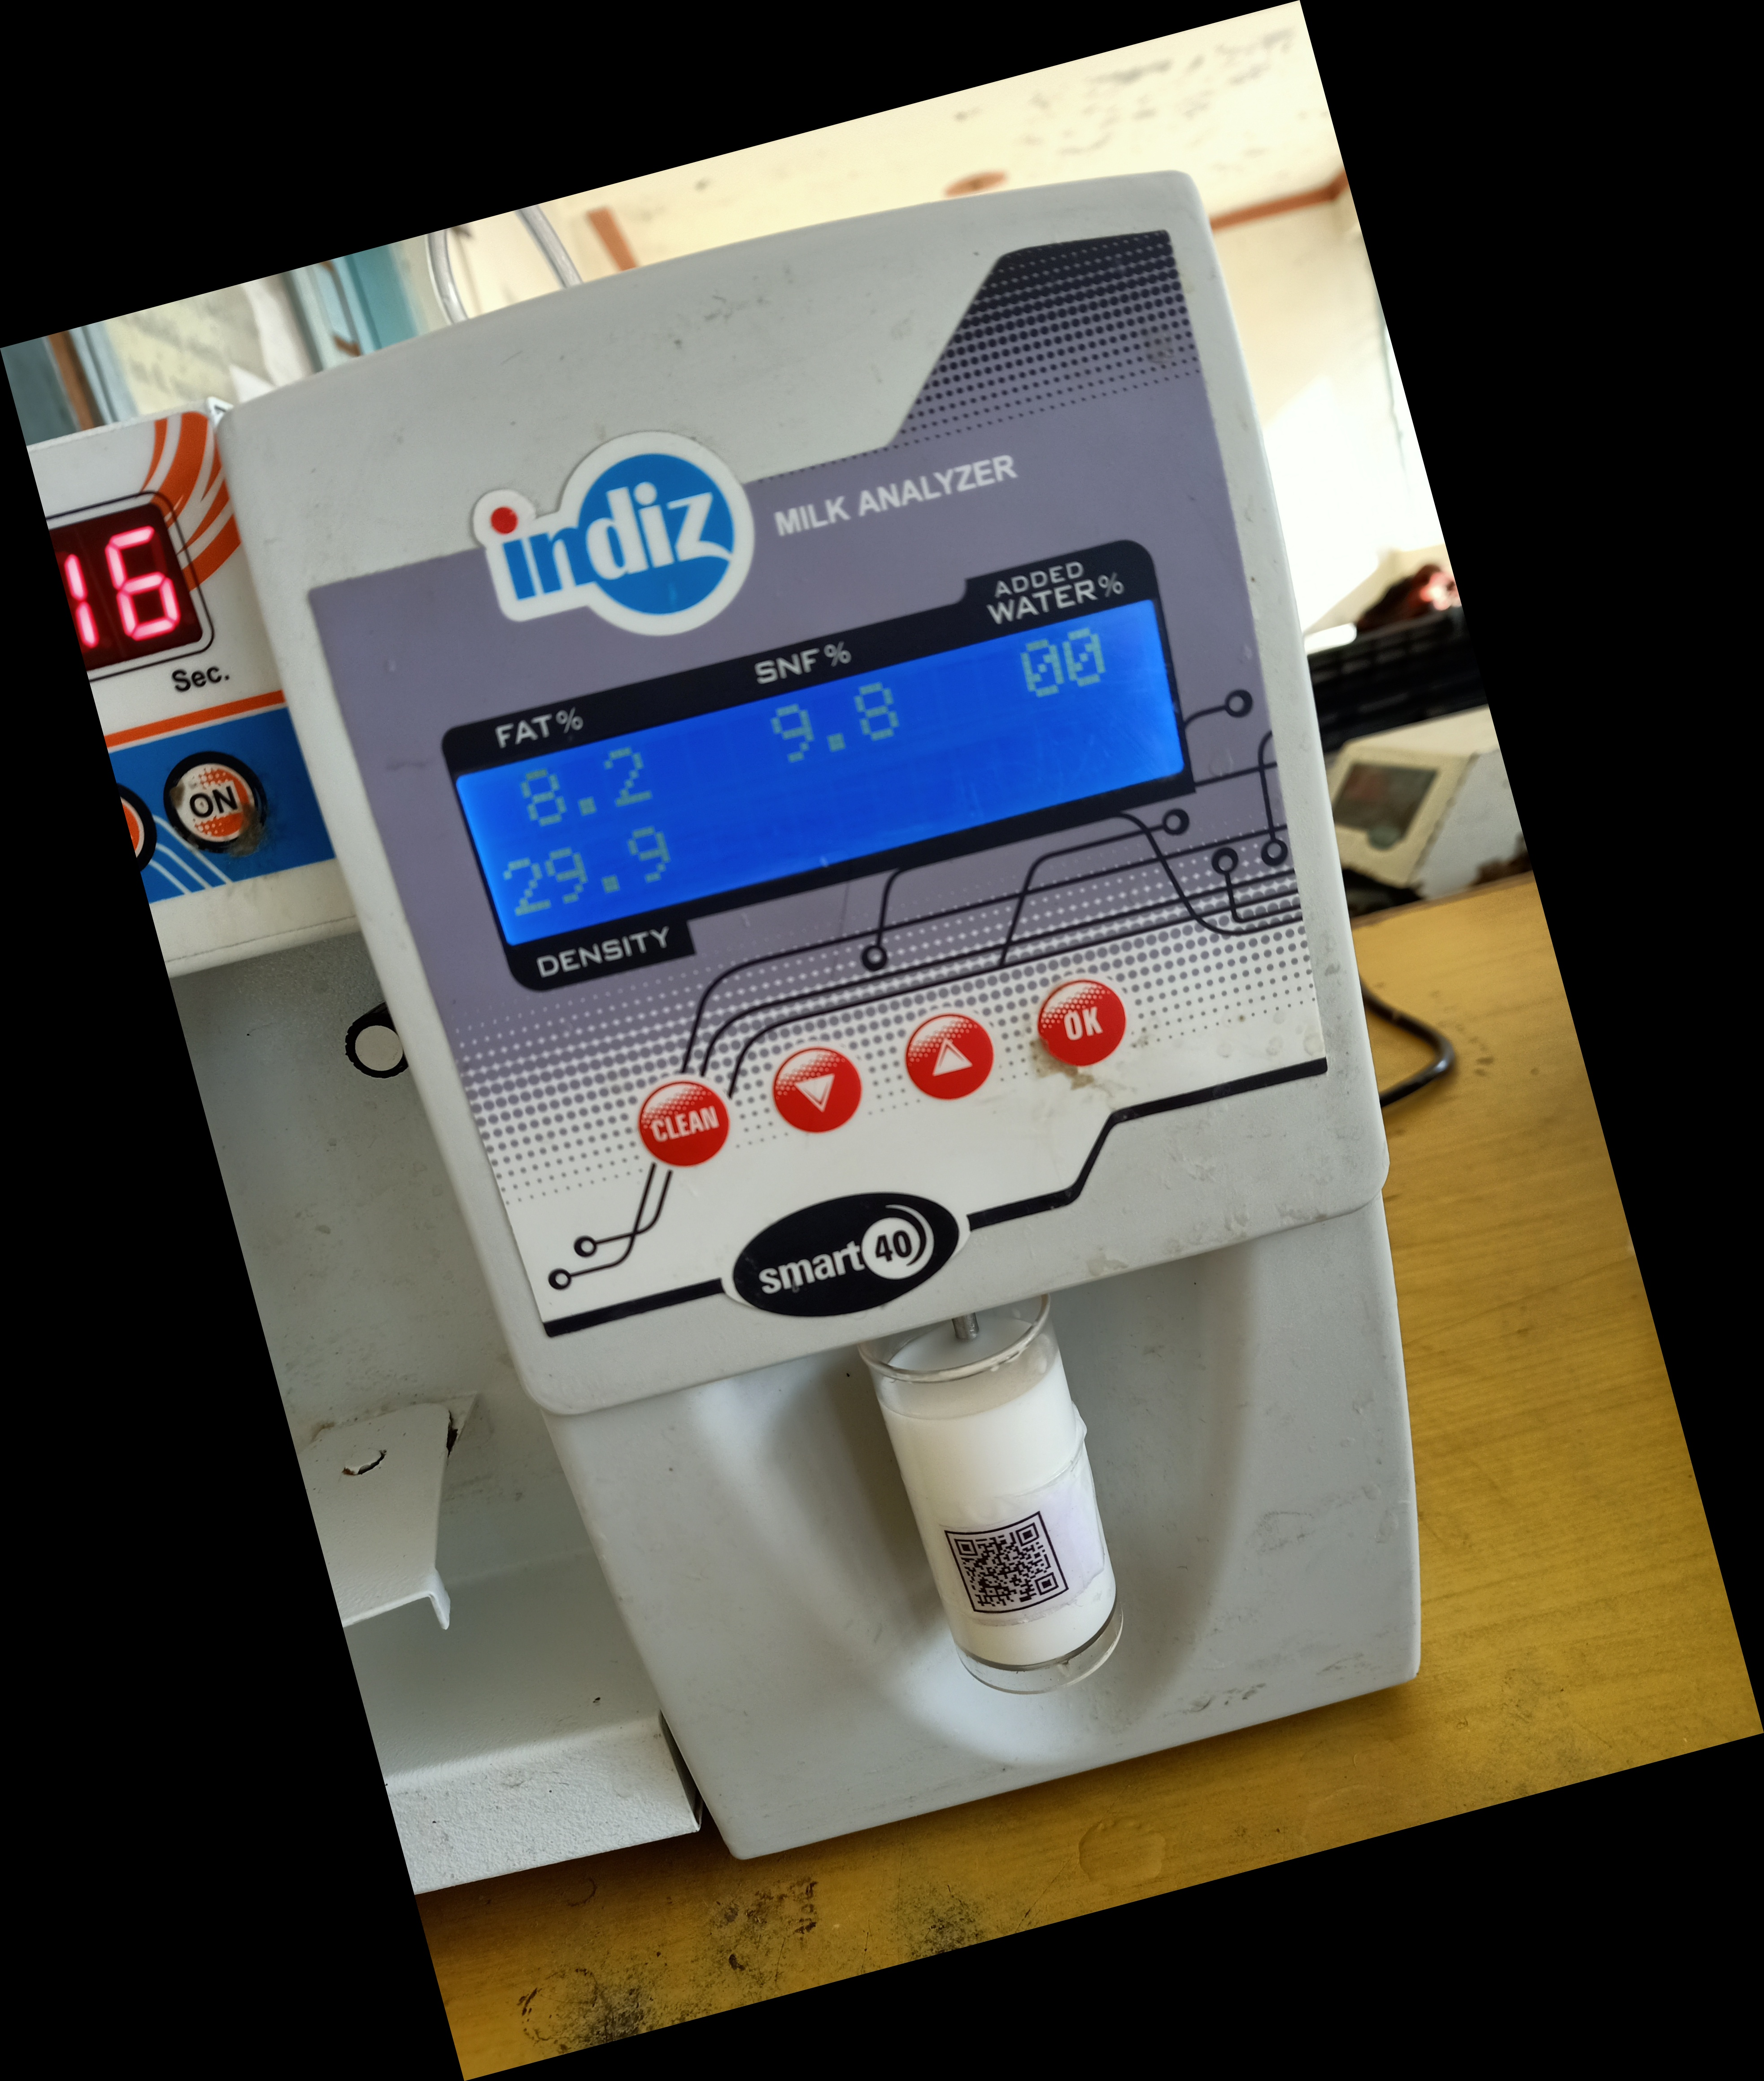lcd: (429, 534, 1214, 1012)
qr: (934, 1502, 1076, 1636)
